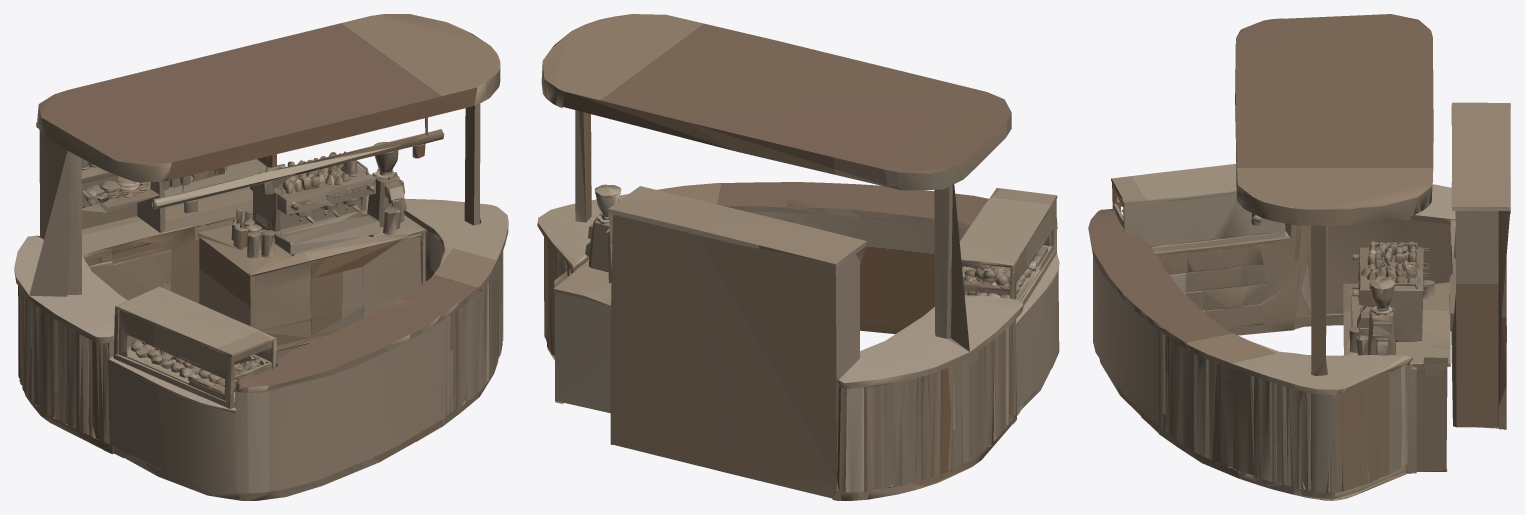
Rendered from term_cafe.glb.
3 views of the same model, side by side, from view 1: azimuth 30°, elevation 25°; view 2: azimuth 150°, elevation 25°; view 3: azimuth 270°, elevation 25° (orthographic). The views are drawn at different scales.
Visible parts, largest first — view 1: LO; view 2: LO; view 3: LO.
Part boxes in pixels (box(x1,y1,x2,y2)): LO: box(14, 14, 508, 500); LO: box(537, 14, 1059, 500); LO: box(1088, 14, 1510, 500).
Size of the model in its own units: 4.27 by 2.71 by 3.62.
1 material, 1 textured.
